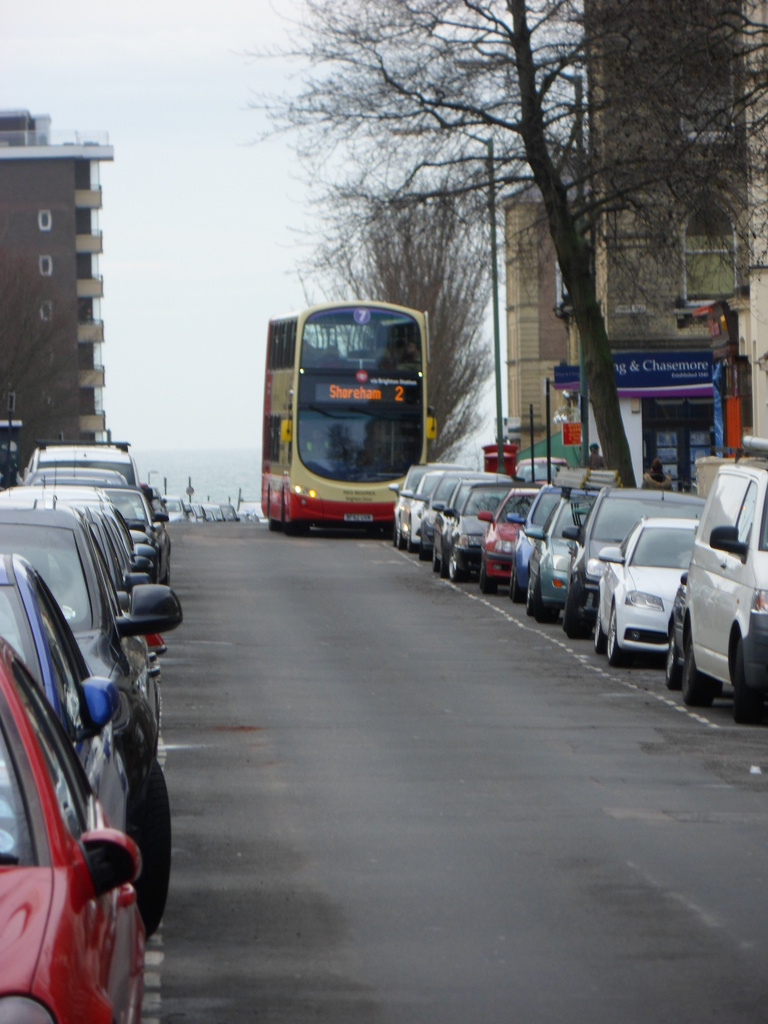Bus: (254, 296, 437, 539)
